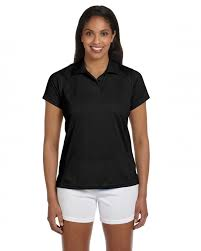C_polo shirt: (38, 59, 162, 182)
